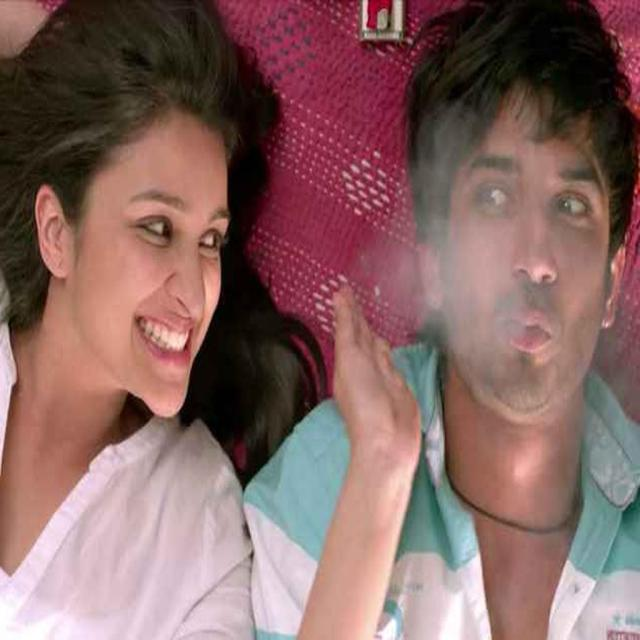smoking: (402, 38, 630, 490)
